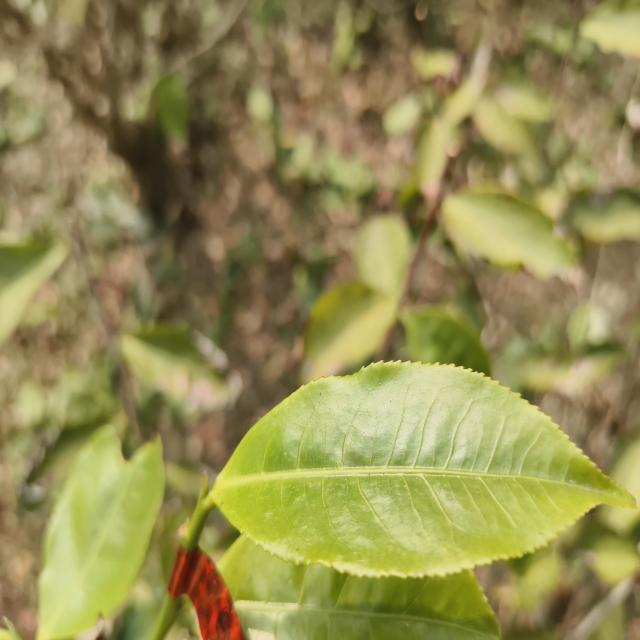Leaf: (210, 361, 634, 577), (218, 536, 500, 640), (37, 426, 164, 640), (442, 190, 575, 277), (119, 324, 243, 414), (302, 281, 399, 383), (400, 306, 491, 376), (354, 215, 411, 296), (572, 192, 640, 244), (416, 116, 455, 202)
